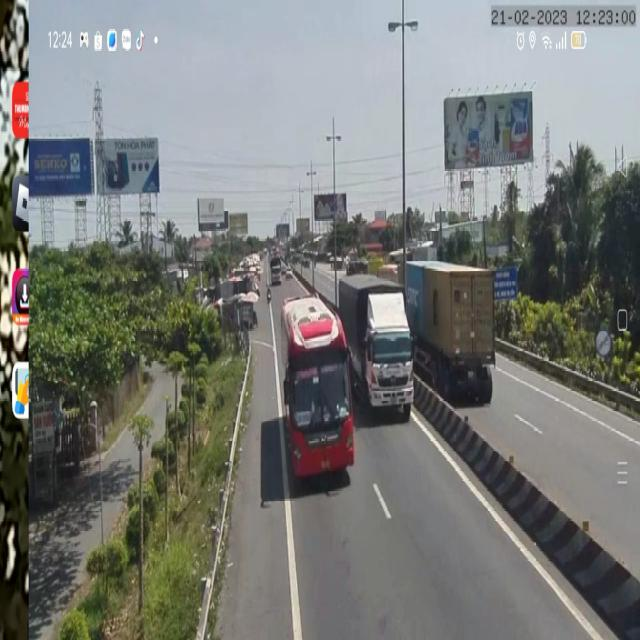bus: (279, 294, 357, 489)
truck: (399, 262, 496, 407), (338, 274, 416, 427)
